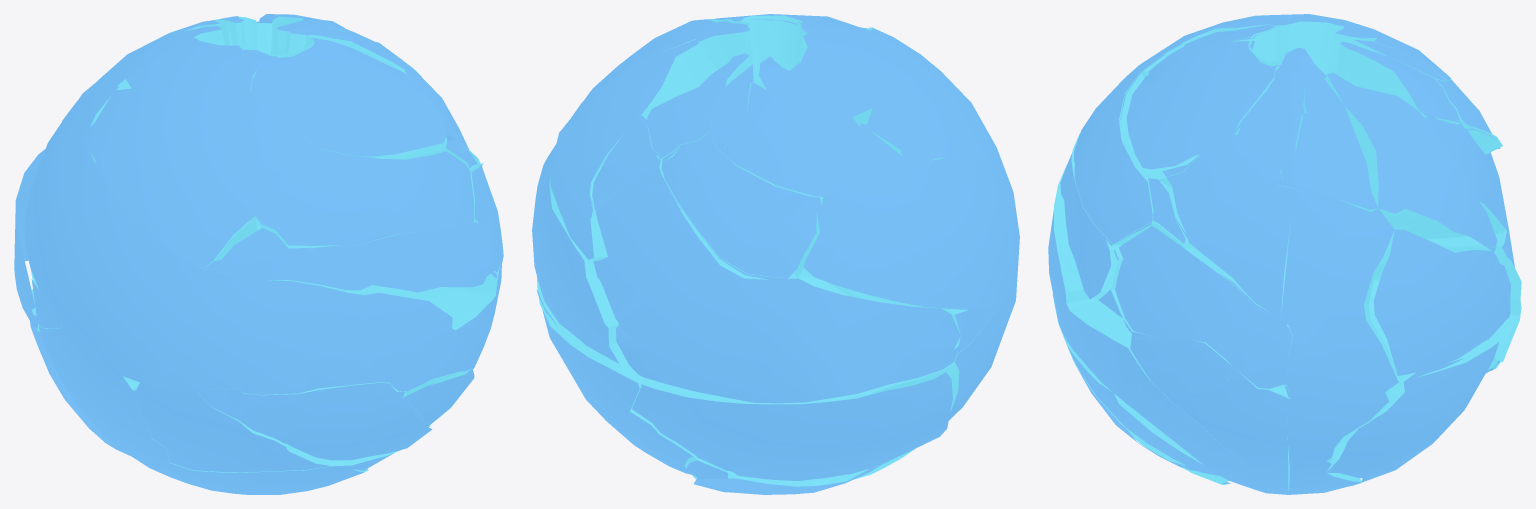
The model's file is zero_point_chapter_2_season_6.glb.
The picture shows the model from 3 angles, left to right: view 1: azimuth 30°, elevation 25°; view 2: azimuth 150°, elevation 25°; view 3: azimuth 270°, elevation 25°; orthographic projection.
Visible parts, largest first — view 1: SM_ZeroPoint_Shattered_SM_Nexus_Core_Shatter.mo.001_0; view 2: SM_ZeroPoint_Shattered_SM_Nexus_Core_Shatter.mo.001_0; view 3: SM_ZeroPoint_Shattered_SM_Nexus_Core_Shatter.mo.001_0.
Boxes of the visible parts, x1,y1,x2,y2 form: SM_ZeroPoint_Shattered_SM_Nexus_Core_Shatter.mo.001_0: [14, 14, 503, 494]; SM_ZeroPoint_Shattered_SM_Nexus_Core_Shatter.mo.001_0: [532, 14, 1019, 494]; SM_ZeroPoint_Shattered_SM_Nexus_Core_Shatter.mo.001_0: [1048, 14, 1521, 494].
Size of the model in its own units: 11.41 by 11.29 by 11.18.
